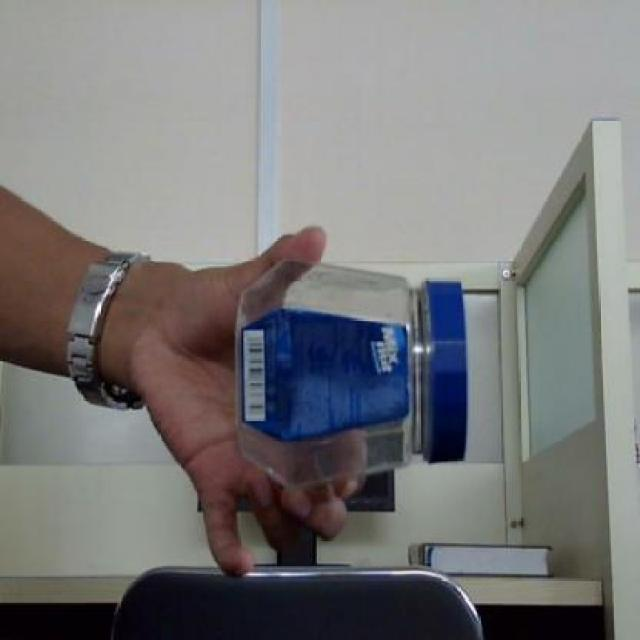Plastic: (235, 259, 470, 491)
